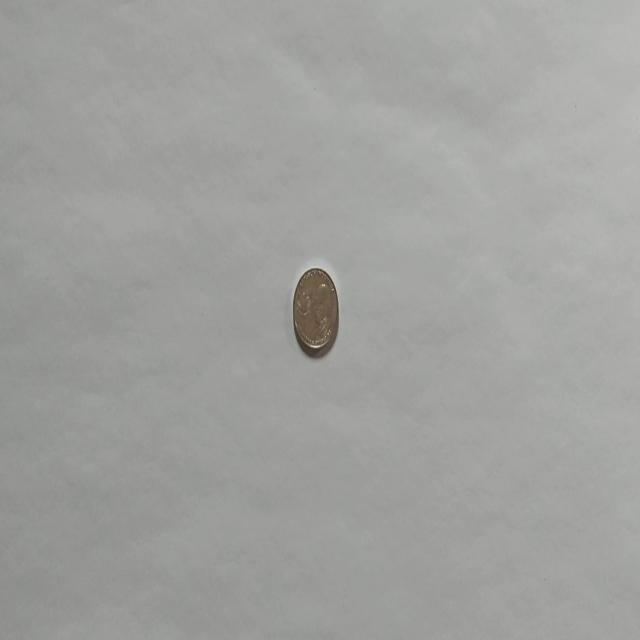lima ratus rupiah: (291, 264, 339, 358)
